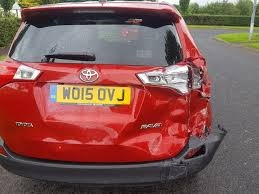Broken-glass: (157, 58, 212, 94)
Dent: (112, 84, 216, 178)
